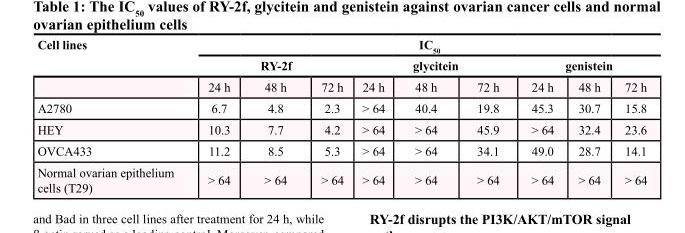table: (36, 36, 646, 194)
table column: (36, 36, 190, 194), (456, 36, 514, 194), (246, 36, 303, 194), (399, 36, 456, 194), (190, 36, 246, 194), (514, 36, 565, 194), (303, 36, 352, 194), (352, 36, 399, 194), (565, 36, 611, 194), (611, 36, 646, 194)
table column header: (36, 36, 646, 97)
table row: (36, 161, 646, 194), (36, 75, 646, 97), (36, 139, 646, 161), (36, 97, 646, 118), (36, 118, 646, 139), (36, 36, 646, 56), (36, 56, 646, 75)
table spanning cell: (36, 36, 190, 97), (190, 36, 646, 56), (190, 56, 352, 75), (352, 56, 514, 75), (514, 56, 646, 75)
